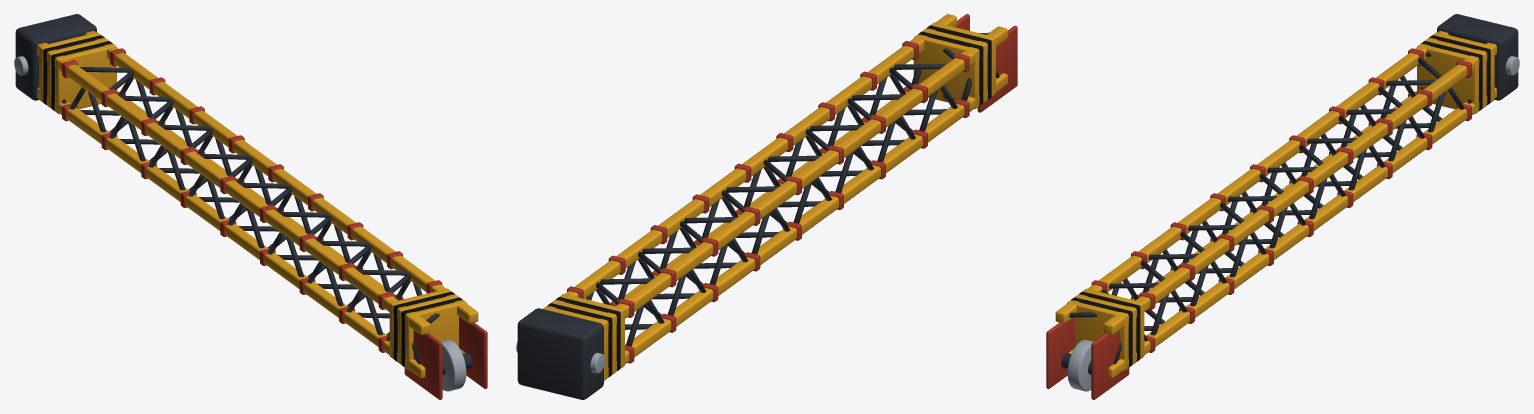
The model's file is crane_boom.glb.
3 renders of one model, left to right at view 1: azimuth 30°, elevation 25°; view 2: azimuth 150°, elevation 25°; view 3: azimuth 330°, elevation 25°, orthographic. The views are drawn at different scales.
Parts seen in each view (by area): view 1: chord_-0.35_0.3, chord_-0.35_-0.3, chord_0.35_0.3, mount, band_0_4, cheek_-0.33, band_1_4, cheek_0.33, sheave, chord_0.35_-0.3, band_1_1, band_1_0 (+6 smaller); view 2: chord_-0.35_0.3, mount, chord_-0.35_-0.3, chord_0.35_0.3, band_1_0, cheek_-0.33, chord_0.35_-0.3, band_0_1, band_1_1, band_0_0, band_0_2, band_1_2 (+4 smaller); view 3: chord_0.35_0.3, chord_-0.35_0.3, chord_0.35_-0.3, mount, band_0_4, cheek_0.33, band_1_4, cheek_-0.33, sheave, band_1_1, band_1_0, band_1_2 (+6 smaller).
Part boxes in pixels (bbox=[...]): chord_-0.35_0.3: bbox=[37, 42, 430, 335]; chord_-0.35_-0.3: bbox=[37, 87, 425, 378]; chord_0.35_0.3: bbox=[85, 31, 478, 323]; mount: bbox=[15, 14, 96, 100]; band_0_4: bbox=[55, 44, 116, 113]; cheek_-0.33: bbox=[404, 330, 442, 399]; band_1_4: bbox=[405, 300, 467, 370]; cheek_0.33: bbox=[459, 316, 487, 388]; sheave: bbox=[440, 339, 466, 391]; chord_0.35_-0.3: bbox=[116, 90, 465, 353]; band_1_1: bbox=[393, 291, 454, 361]; band_1_0: bbox=[389, 288, 450, 358]; chord_-0.35_0.3: bbox=[595, 26, 1007, 333]; mount: bbox=[517, 308, 603, 399]; chord_-0.35_-0.3: bbox=[604, 73, 1007, 379]; chord_0.35_0.3: bbox=[544, 14, 956, 311]; band_1_0: bbox=[913, 34, 979, 108]; cheek_-0.33: bbox=[977, 25, 1017, 112]; chord_0.35_-0.3: bbox=[624, 84, 918, 299]; band_0_1: bbox=[547, 303, 612, 377]; band_1_1: bbox=[918, 31, 983, 105]; band_0_0: bbox=[543, 306, 608, 380]; band_0_2: bbox=[551, 300, 616, 374]; band_1_2: bbox=[922, 28, 987, 102]; chord_0.35_0.3: bbox=[1103, 42, 1496, 335]; chord_-0.35_0.3: bbox=[1055, 31, 1448, 323]; chord_0.35_-0.3: bbox=[1108, 87, 1496, 378]; mount: bbox=[1437, 14, 1518, 100]; band_0_4: bbox=[1417, 44, 1478, 113]; cheek_0.33: bbox=[1091, 330, 1129, 399]; band_1_4: bbox=[1066, 300, 1128, 370]; cheek_-0.33: bbox=[1046, 317, 1074, 388]; sheave: bbox=[1067, 339, 1093, 391]; band_1_1: bbox=[1079, 291, 1140, 361]; band_1_0: bbox=[1083, 288, 1144, 358]; band_1_2: bbox=[1075, 294, 1136, 364].
Size of the model in its own units: 1.1 by 1.04 by 10.55.
